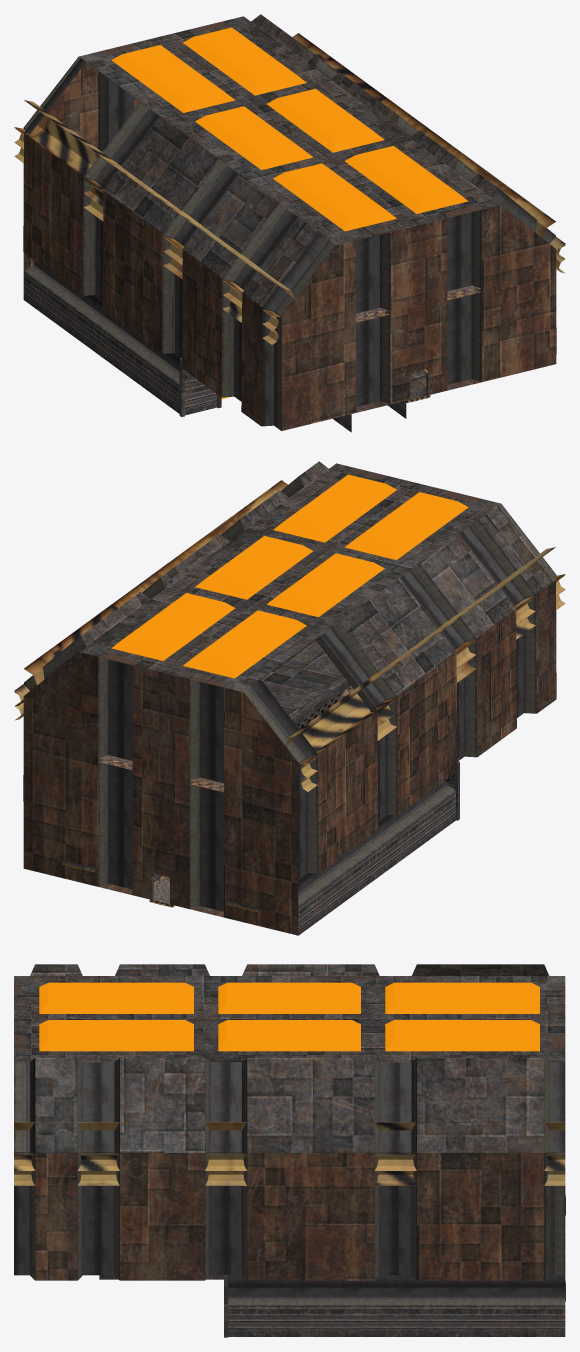
The model's file is PRELUDE ∕∕∕ FIRST     INTO THE FIRE.fbx.
3 views of the same model, one above another, from view 1: azimuth 30°, elevation 25°; view 2: azimuth 150°, elevation 25°; view 3: azimuth 270°, elevation 25° (orthographic). The views are drawn at different scales.
Parts seen in each view (by area): view 1: Bounds, Circle, Circle.004, Circle.001, Circle.002, Plane.001; view 2: Bounds, Circle, Circle.004, Cube.003, Circle.001, Circle.002, Plane; view 3: Bounds, Circle.005, Circle.006, Circle.004.
Boxes of the visible parts, x1,y1,x2,y2 form: Bounds: [23, 14, 556, 432]; Circle: [14, 100, 294, 317]; Circle.004: [292, 33, 565, 249]; Circle.001: [14, 128, 278, 330]; Circle.002: [14, 142, 278, 344]; Plane.001: [356, 285, 480, 322]; Bounds: [23, 461, 556, 935]; Circle: [285, 547, 565, 764]; Circle.004: [14, 480, 287, 696]; Cube.003: [132, 677, 459, 908]; Circle.001: [301, 575, 565, 777]; Circle.002: [301, 589, 565, 791]; Plane: [99, 755, 223, 792]; Bounds: [14, 964, 565, 1336]; Circle.005: [14, 1155, 565, 1170]; Circle.006: [14, 1171, 565, 1185]; Circle.004: [14, 1122, 565, 1154].
Bounding box in the file's own units: 43 × 33.44 × 65.07.
Materials: 12 (10 with a texture image).
